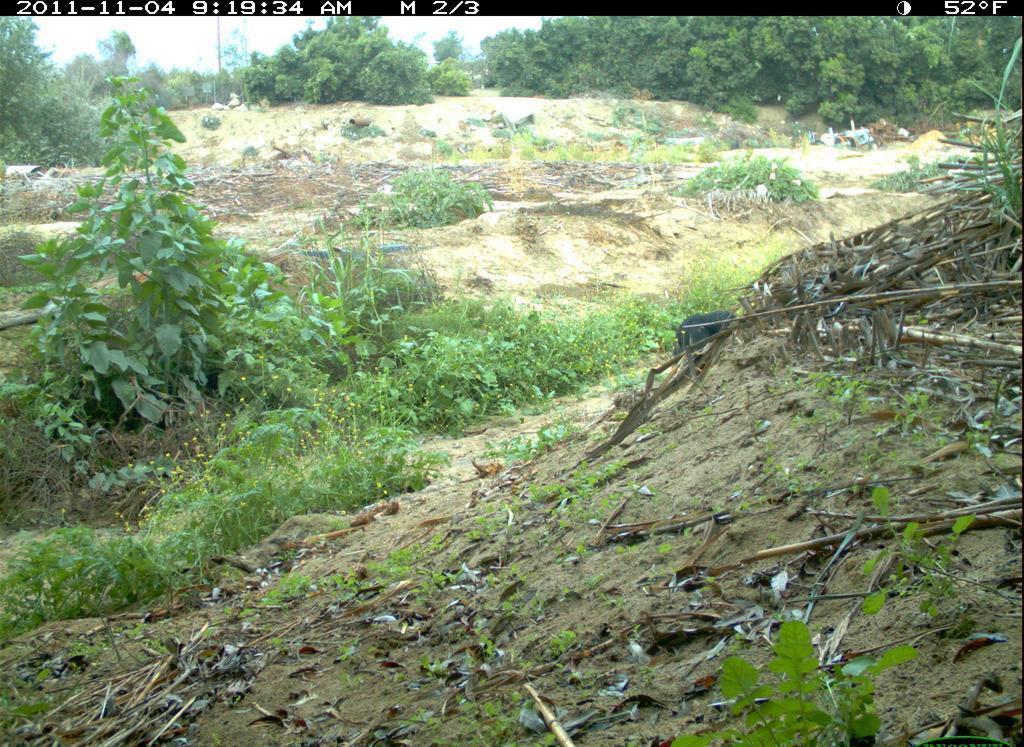dog: (664, 308, 765, 372)
